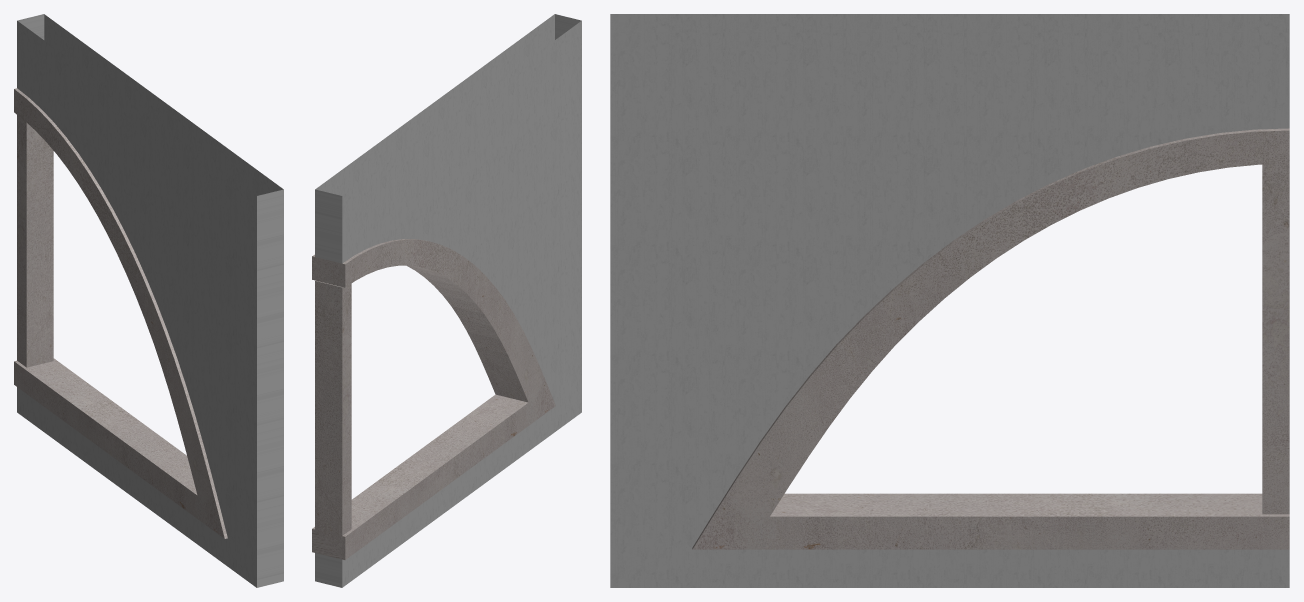
The model's file is Divider_01.fbx.
3 renders of one model, left to right at view 1: azimuth 30°, elevation 25°; view 2: azimuth 150°, elevation 25°; view 3: azimuth 270°, elevation 25°, orthographic. The views are drawn at different scales.
Visible parts, largest first — view 1: Divider_01; view 2: Divider_01; view 3: Divider_01.
Part boxes in pixels (box(x1,y1,x2,y2)): Divider_01: box(14, 14, 283, 587); Divider_01: box(312, 14, 581, 587); Divider_01: box(610, 14, 1289, 587).
Bounding box in the file's own units: 39.81 × 451 × 500.
